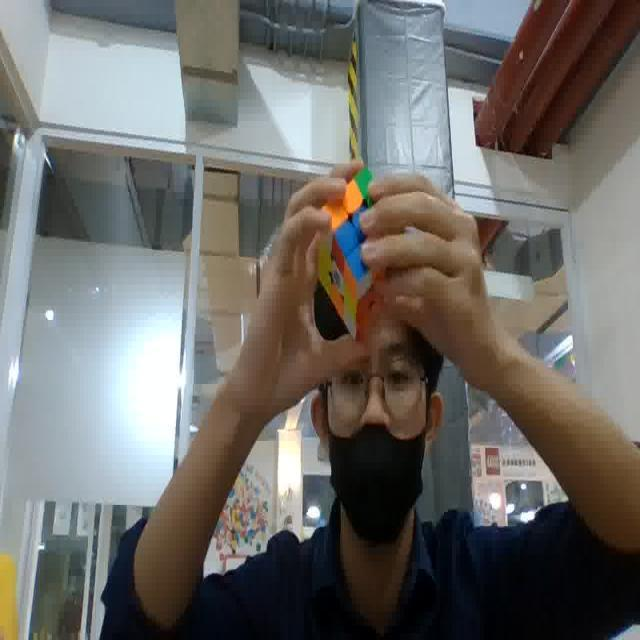Rub: (312, 164, 404, 342)
